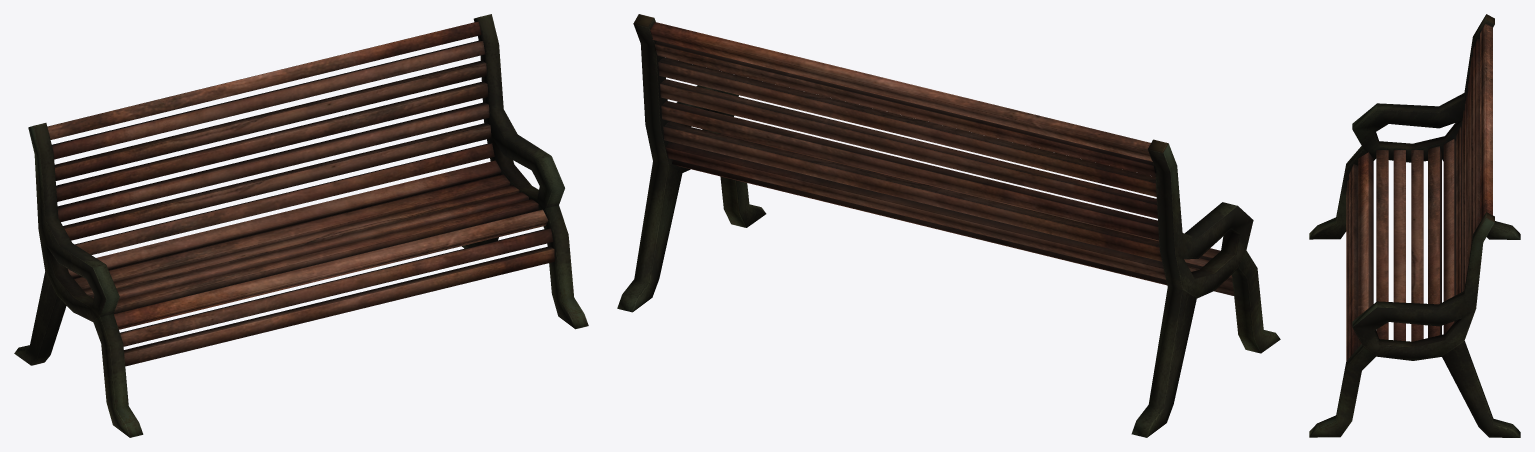
File: free_parkchair.glb
3 views of the same model, side by side, from view 1: azimuth 30°, elevation 25°; view 2: azimuth 150°, elevation 25°; view 3: azimuth 270°, elevation 25° (orthographic). The views are drawn at different scales.
Parts seen in each view (by area): view 1: parkchair; view 2: parkchair; view 3: parkchair.
Boxes of the visible parts, x1,y1,x2,y2 form: parkchair: (14, 14, 588, 437); parkchair: (617, 14, 1280, 437); parkchair: (1309, 14, 1520, 437).
Bounding box in the file's own units: 87.42 × 43.96 × 38.25.
Materials: 1 (1 with a texture image).
